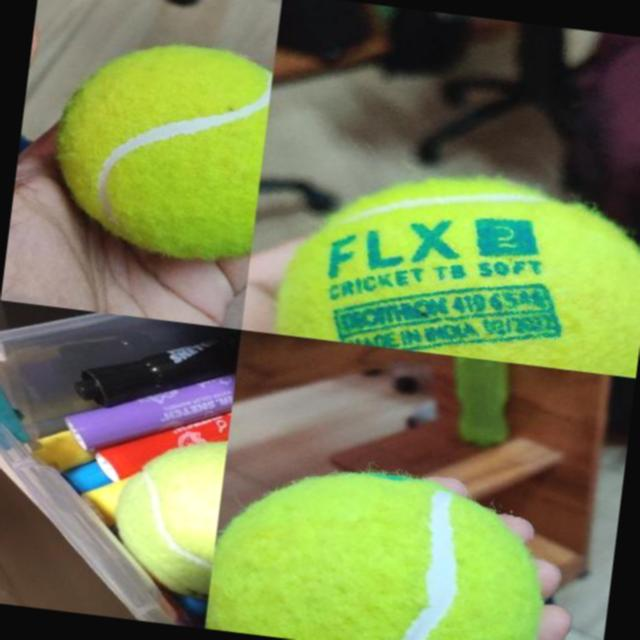tennis-ball: (274, 153, 640, 376), (205, 453, 557, 640), (42, 30, 274, 266), (108, 428, 226, 600)
